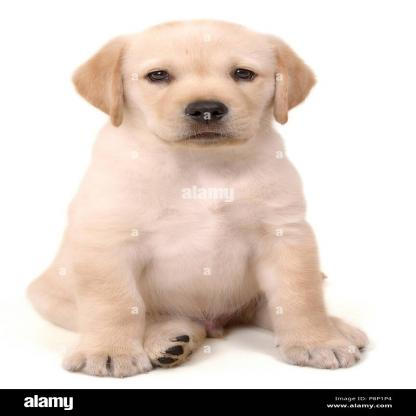Labarador Retriever: (30, 20, 372, 378)
